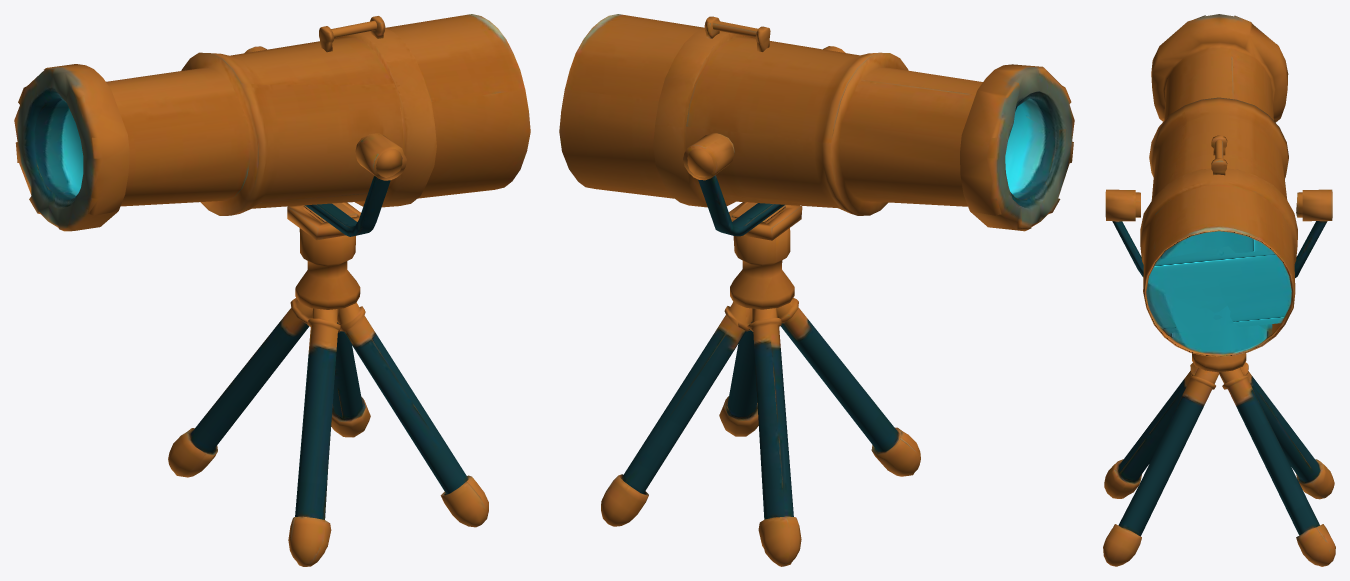
The model's file is viewpoint.glb.
3 views of the same model, side by side, from view 1: azimuth 30°, elevation 25°; view 2: azimuth 150°, elevation 25°; view 3: azimuth 270°, elevation 25° (orthographic). The views are drawn at different scales.
Size of the model in its own units: 0.8906 by 0.9502 by 0.4883.
Materials: 1 (1 with a texture image).
